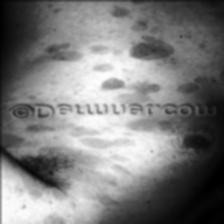Potentially Malignant Skin Tumors: (131, 34, 172, 61), (82, 138, 119, 152)
